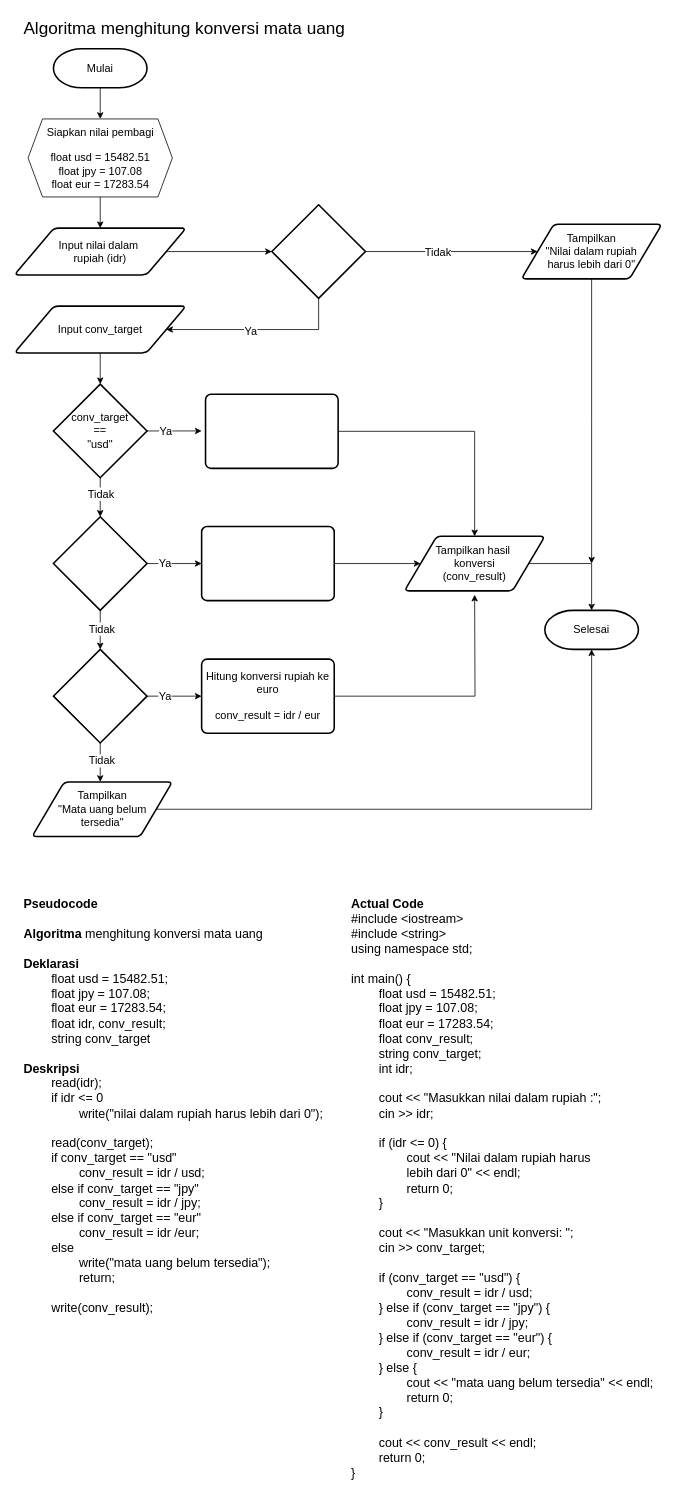
Some shapes in this 683 by 1497 pixel diagram are drawn without their labels. The box of each missing label's shape, as (x1, y1, x2, y2) in pixels:
Apakah nilai idr > 0?: (271, 204, 366, 299)
conv_target == "eur": (52, 648, 147, 743)
conv_target == "jpy": (52, 516, 147, 611)
Hitung konversi rupiah ke dollar (us) conv_result = idr / usd: (204, 393, 339, 469)
Hitung konversi rupiah ke yen conv_result = idr / jpy: (200, 525, 335, 601)
